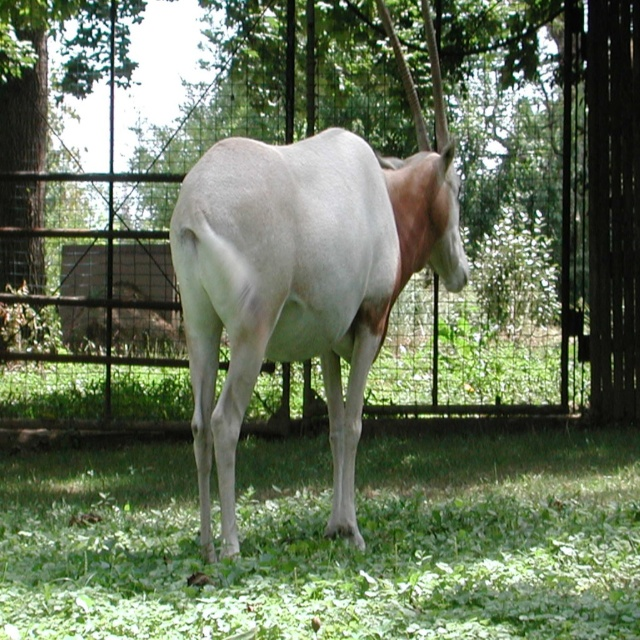Horse: (166, 122, 473, 568)
